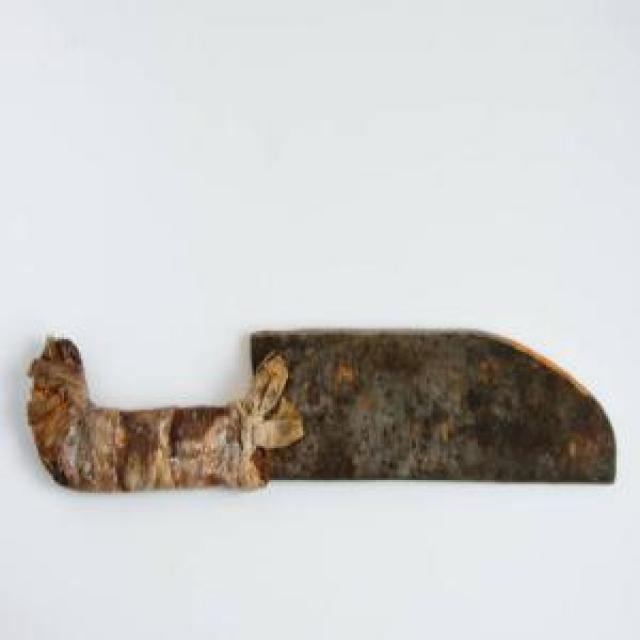knife: (32, 335, 621, 487)
